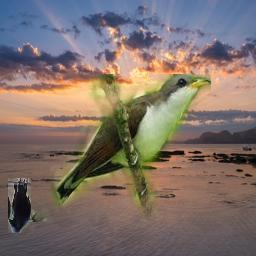Crow: (8, 178, 31, 233)
Cuckoo: (31, 74, 211, 222)
